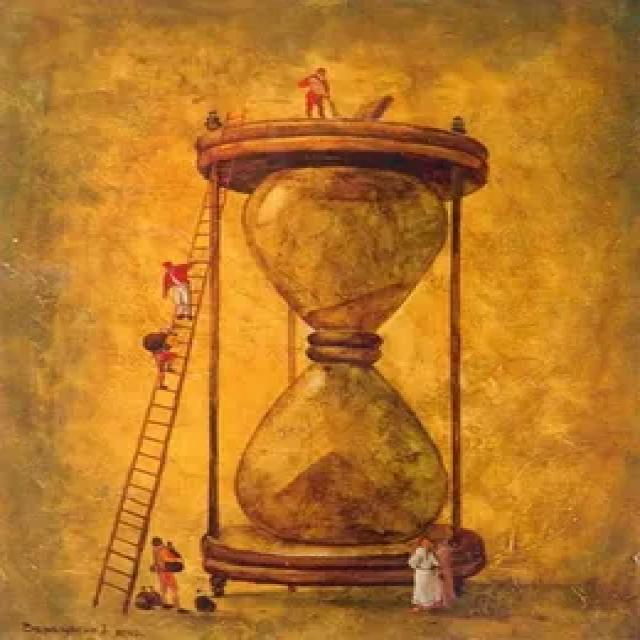clock: (199, 100, 502, 594)
